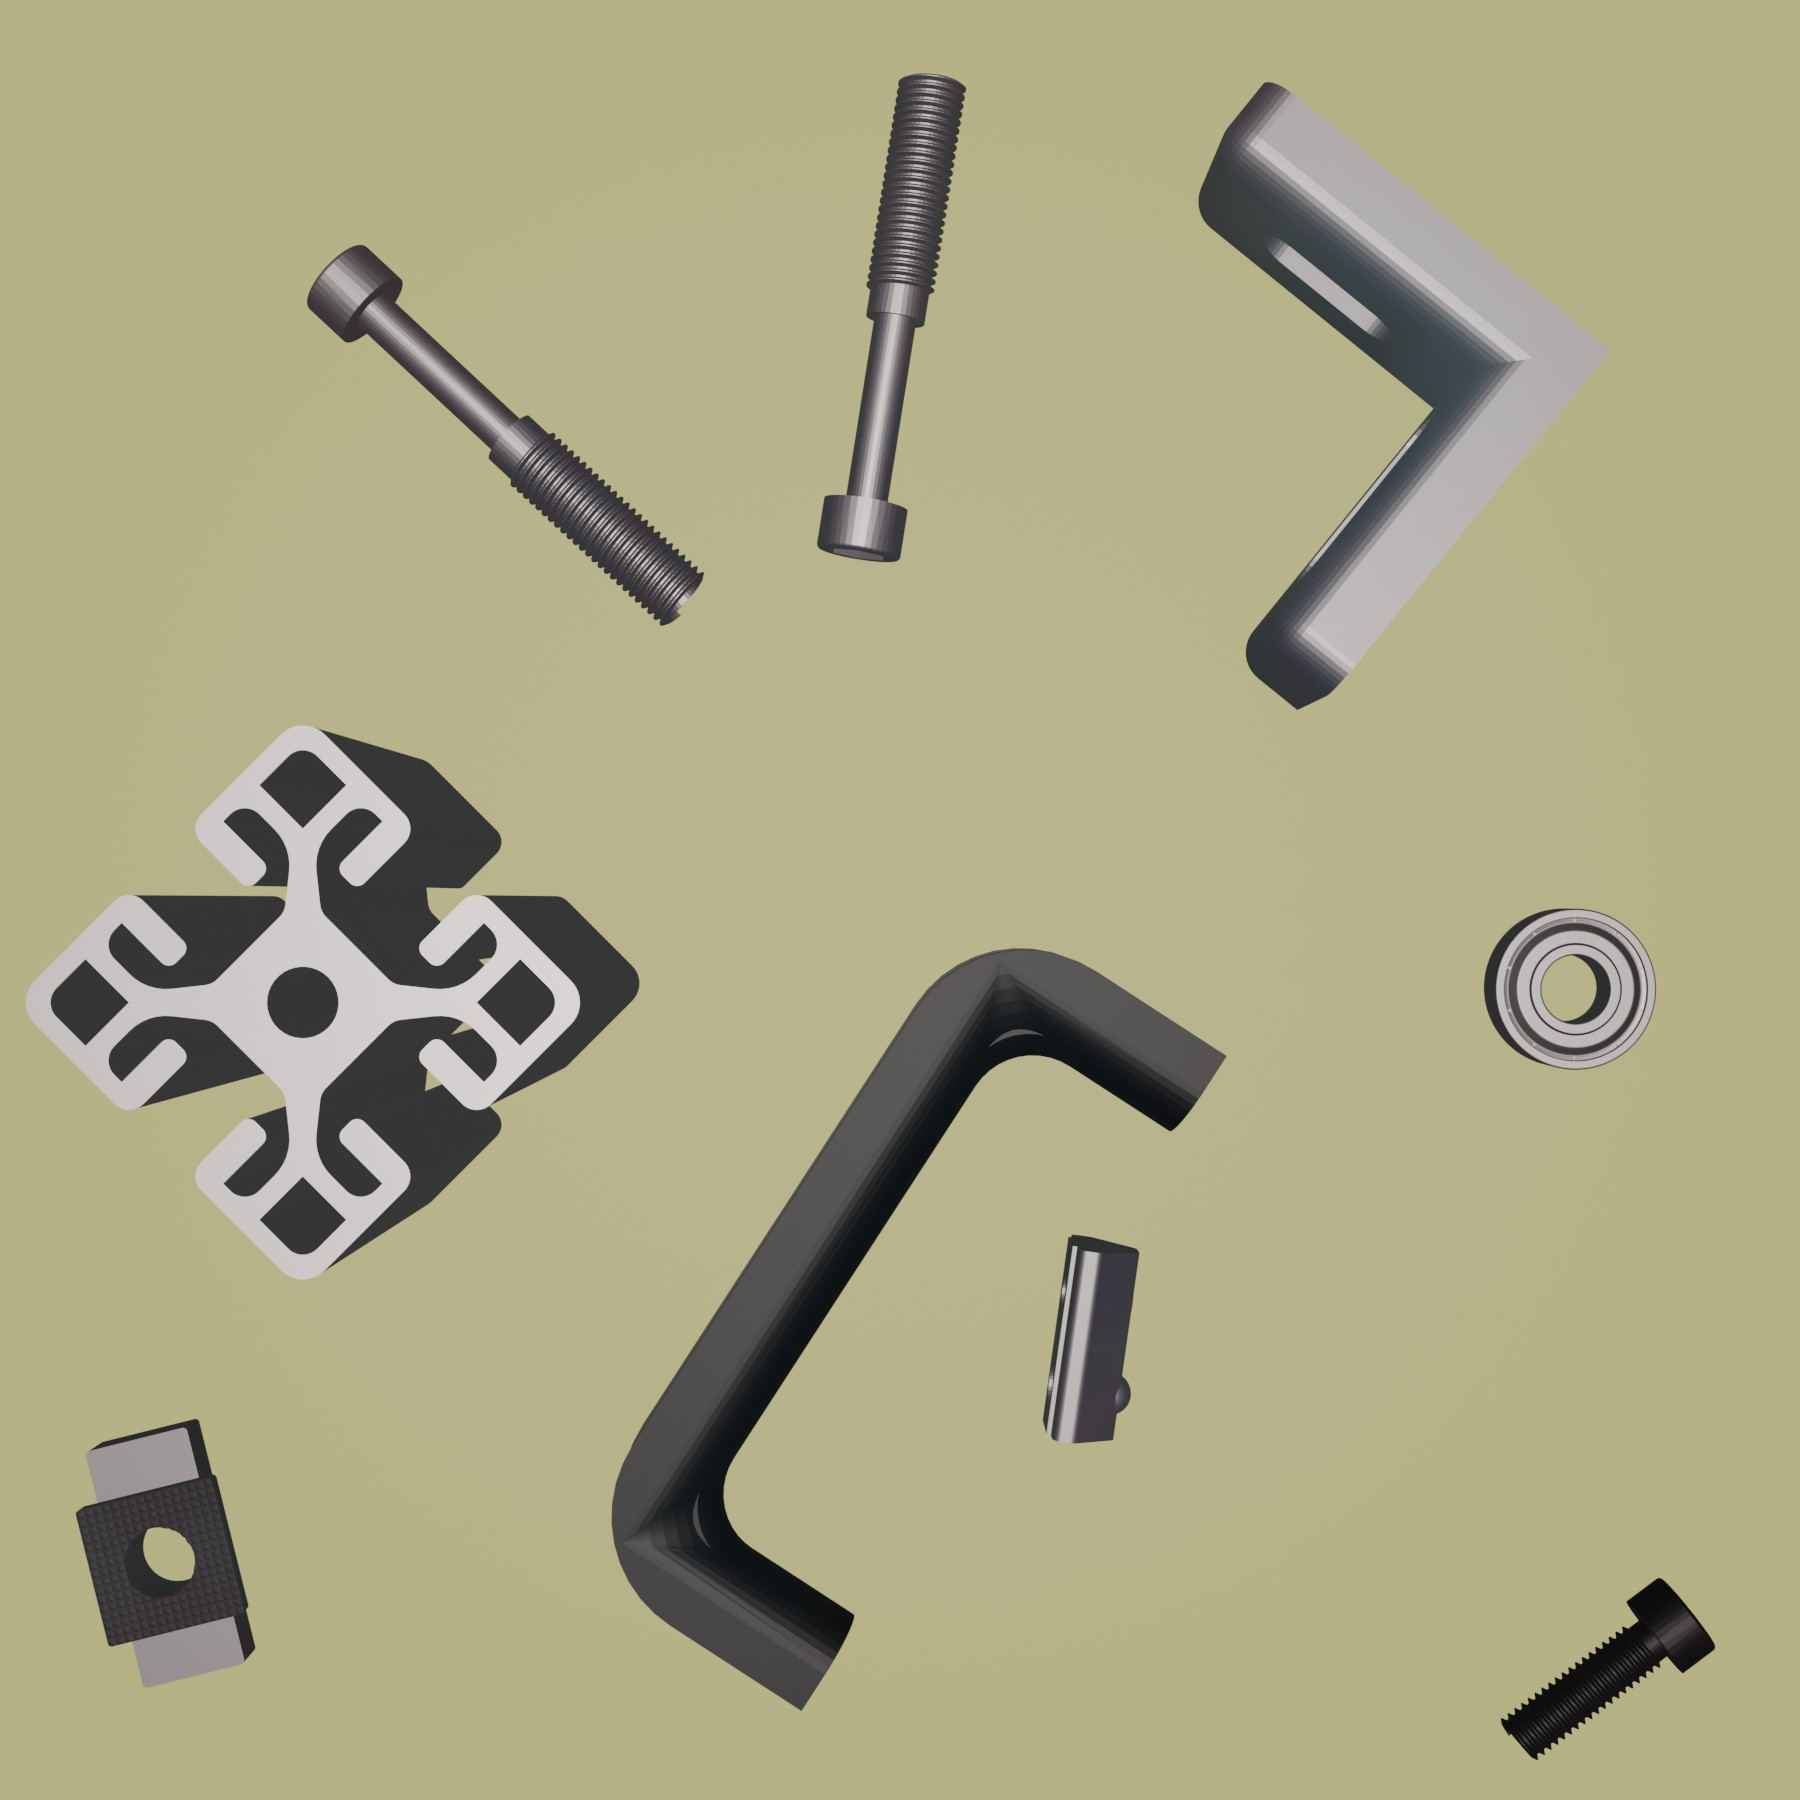Aluminium Extension: (23, 720, 641, 1286)
Ball Bearing: (1482, 903, 1658, 1075)
Multiwinkel: (1197, 77, 1615, 714)
Pull Handle: (608, 943, 1228, 1714)
Shoulder Socket Head Cap Screw: (302, 237, 705, 626), (813, 69, 969, 565)
Socket Head Cap Screw: (1500, 1569, 1718, 1762)
T Nut Square: (74, 1414, 259, 1690)
T Spring Nut: (1038, 1231, 1142, 1447)
